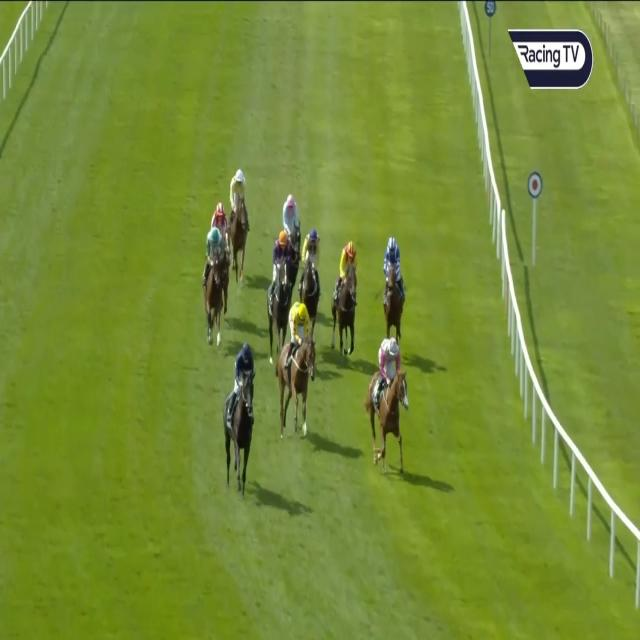horses-racing: (370, 340, 407, 480), (222, 341, 255, 491), (281, 304, 316, 439), (228, 166, 254, 278), (381, 236, 408, 340), (203, 228, 226, 350), (334, 242, 359, 353), (299, 228, 323, 320), (271, 232, 290, 346), (281, 193, 303, 254), (212, 202, 231, 230)
